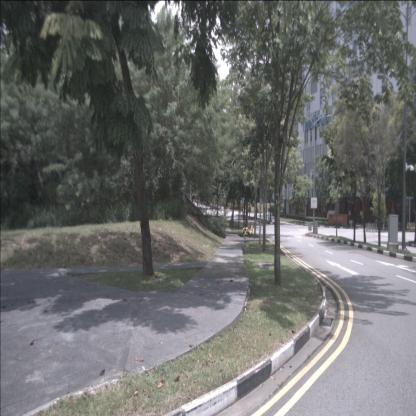vehicle-bicycle: (242, 219, 255, 240)
